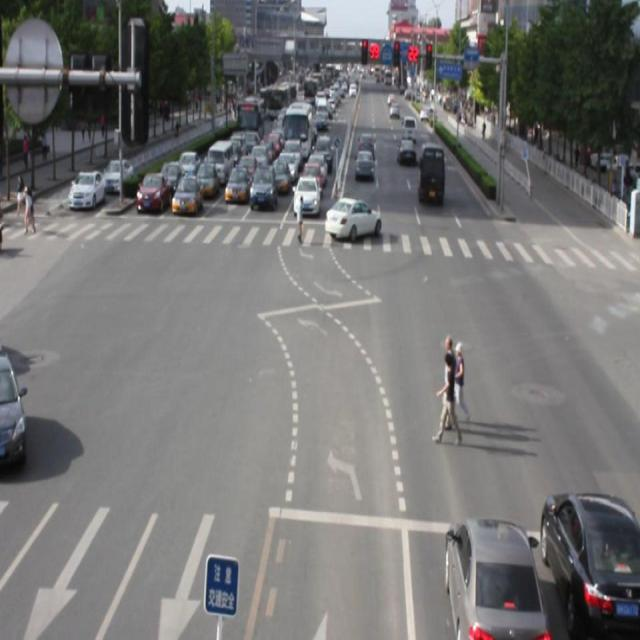car: (535, 493, 640, 640), (442, 516, 541, 640), (1, 350, 27, 472), (324, 194, 381, 240)
